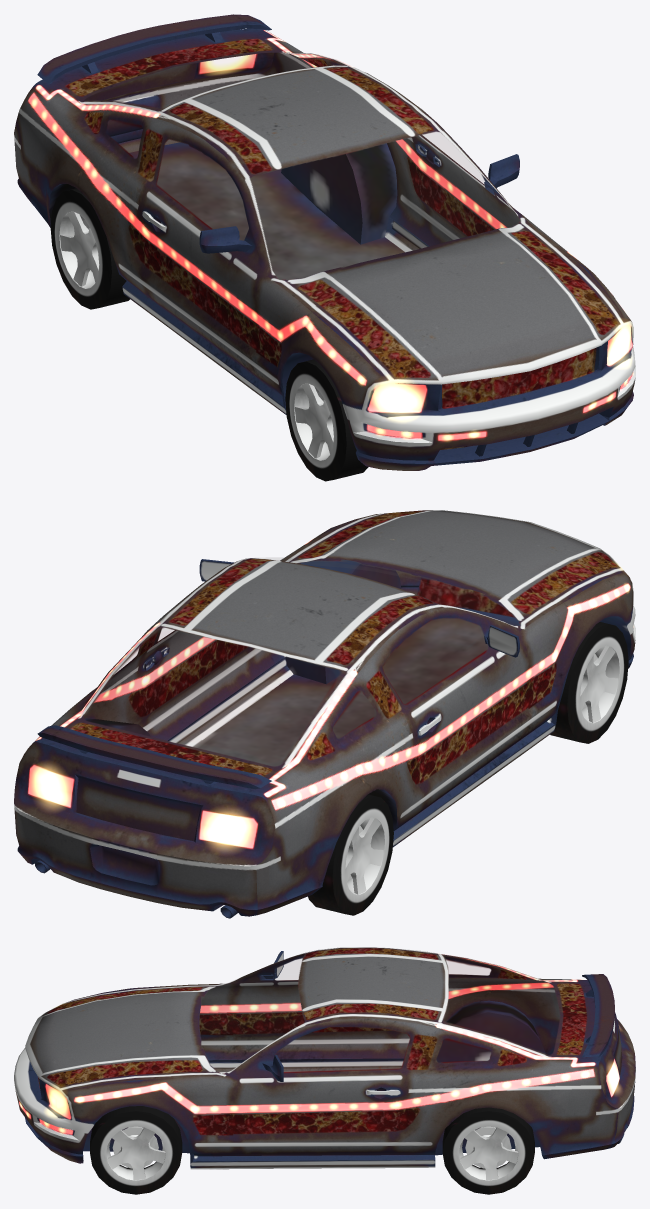
3 renders of one model, top to bottom at view 1: azimuth 30°, elevation 25°; view 2: azimuth 150°, elevation 25°; view 3: azimuth 270°, elevation 25°, orthographic. The views are drawn at different scales.
Visible parts, largest first — view 1: defaultMaterial; view 2: defaultMaterial; view 3: defaultMaterial.
Boxes of the visible parts, bbox=[...] form: defaultMaterial: bbox=[14, 14, 635, 481]; defaultMaterial: bbox=[14, 510, 635, 918]; defaultMaterial: bbox=[14, 947, 635, 1194].
Bounding box in the file's own units: 0.8905 × 0.5901 × 2.
Materials: 1 (1 with a texture image).
